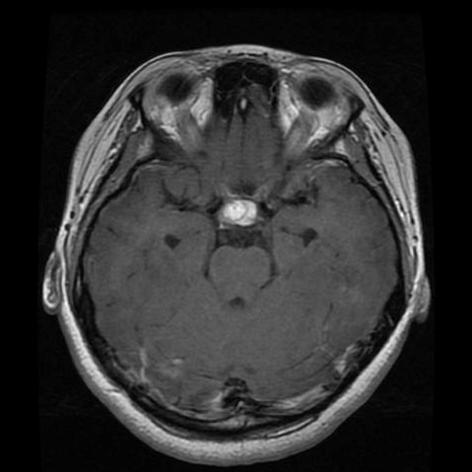Tumour-Pituitary: (214, 188, 280, 238)
